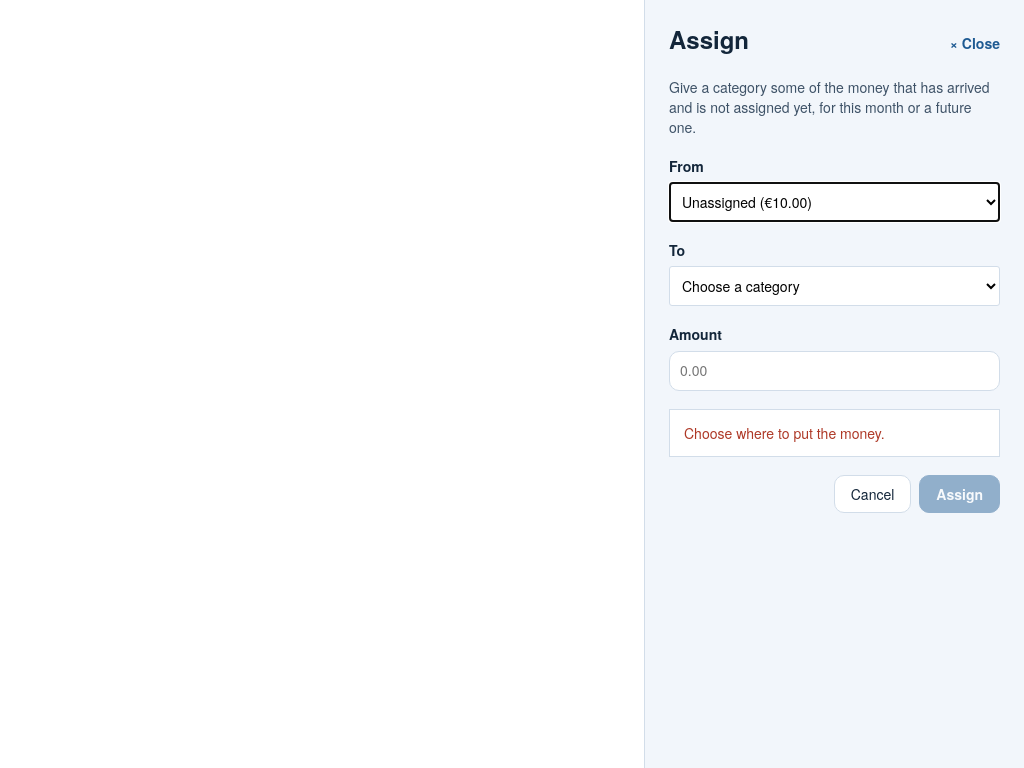
Test: MoveMoneyForm (#328) › assigning more than is unassigned shows a warning, but still allows it
Select "Groceries (€100.00)" in the dropdown labelled "To" at (834, 286), box [669, 266, 1000, 306]
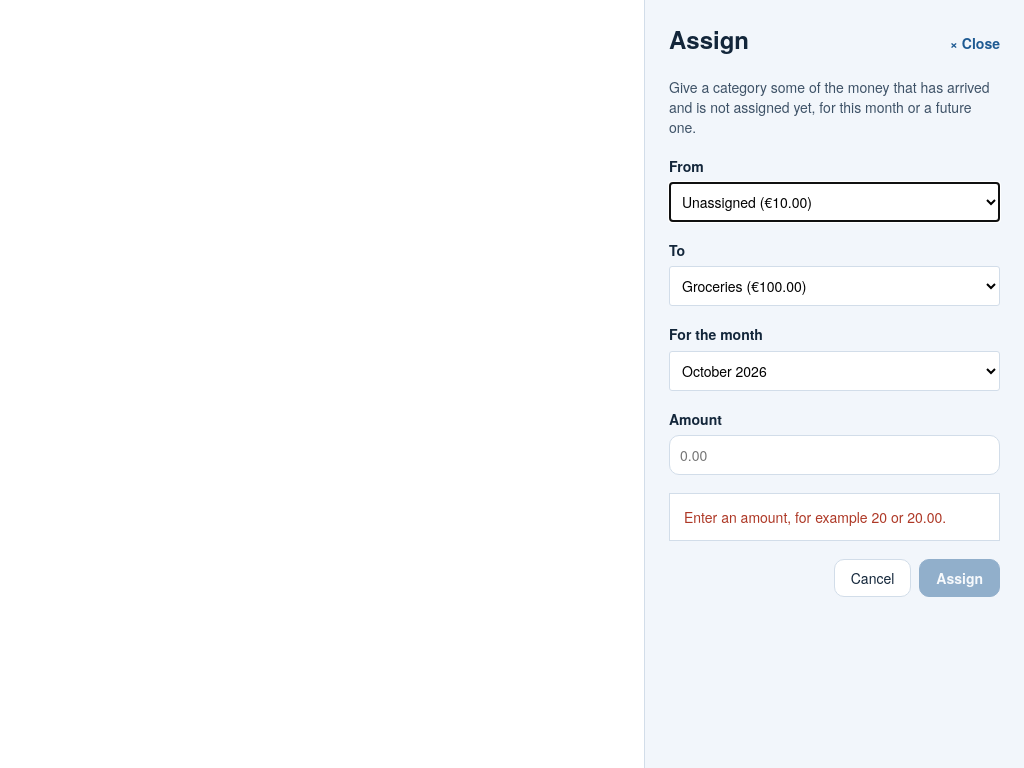
Type "50.00" into the field labelled "Amount".
click(834, 455); type("50.00")  # box [669, 435, 1000, 475]
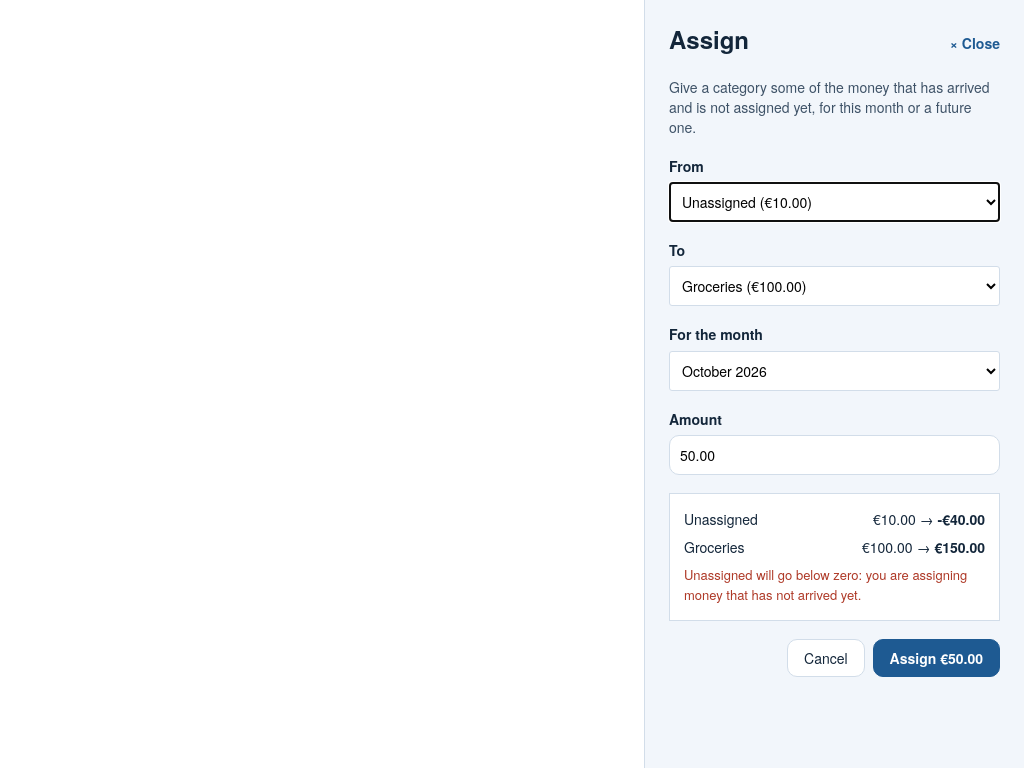
Check: the text "Unassigned will go below zero" is shown, box [684, 565, 967, 604]
Check: the button "Assign €50.00" is enabled, box [873, 639, 1000, 677]
